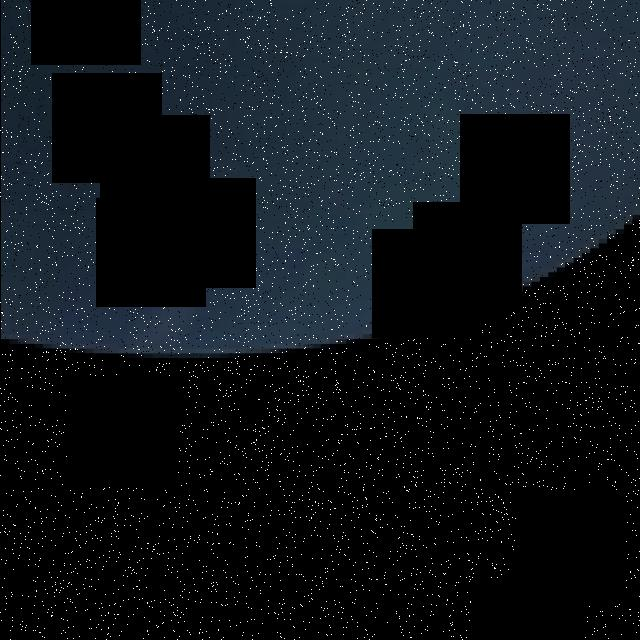Uranus: (0, 0, 640, 363)
